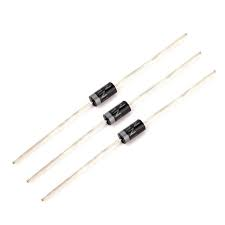diode: (116, 116, 155, 147), (83, 76, 117, 108), (98, 99, 135, 127)
